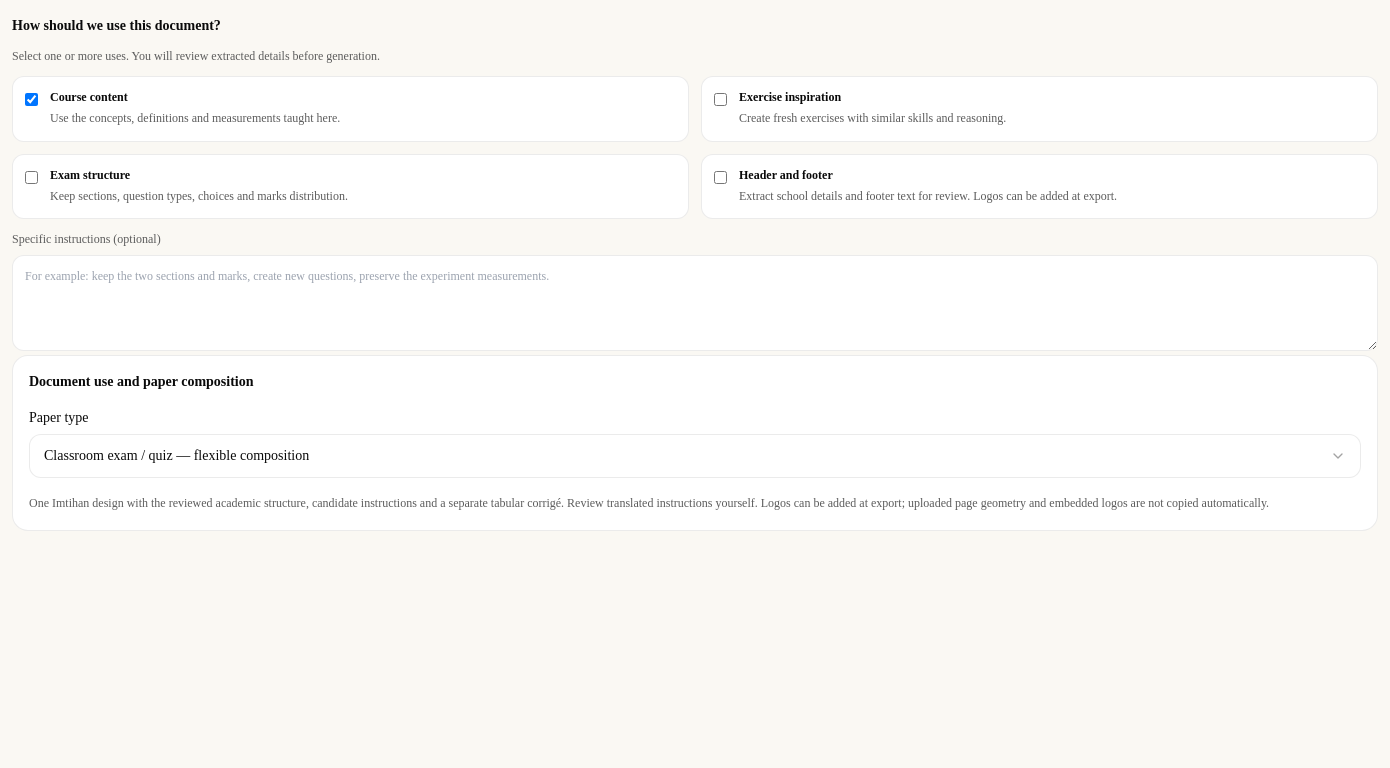
it: lets teachers combine purposes and warns when none remain
Click the 3rd checkbox at (32, 177), box [25, 170, 38, 184]
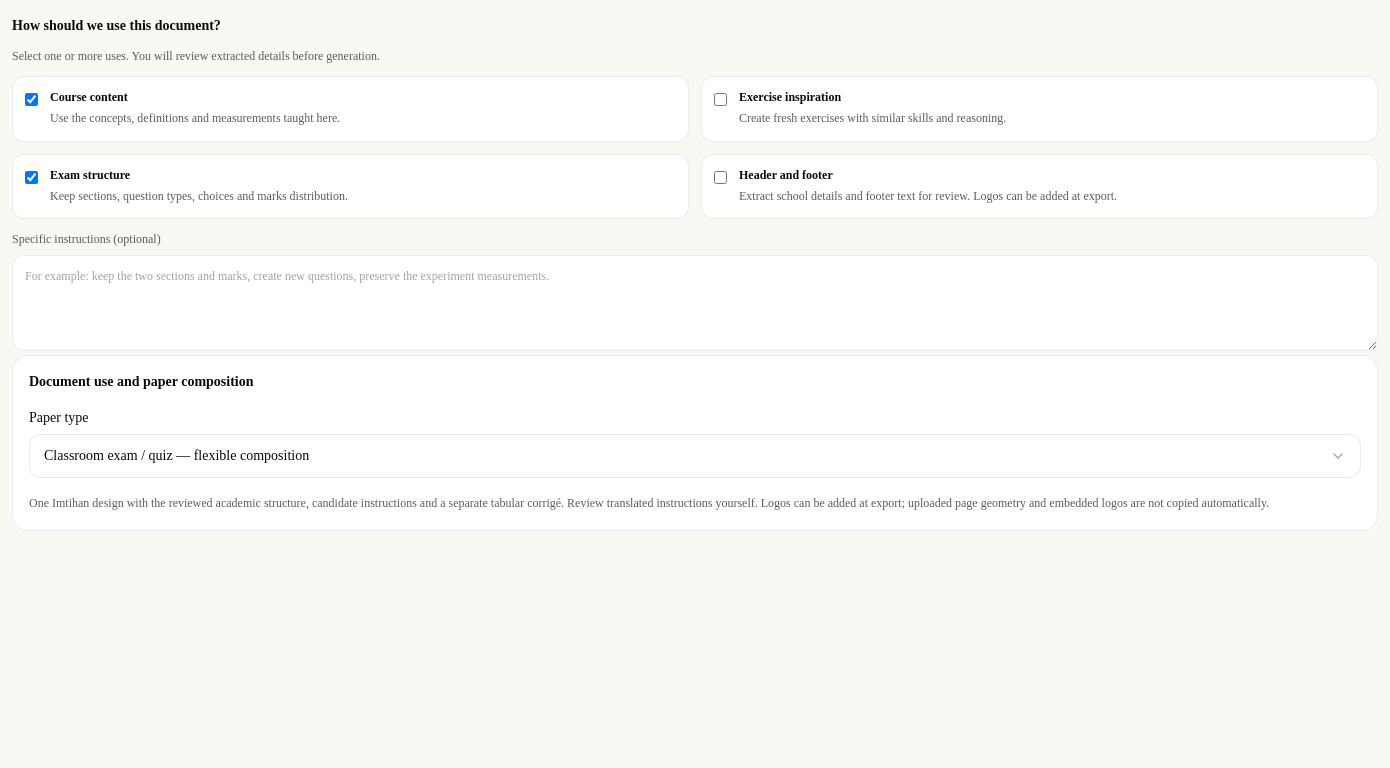
Click the 1st checkbox at (32, 100), box [25, 93, 38, 106]
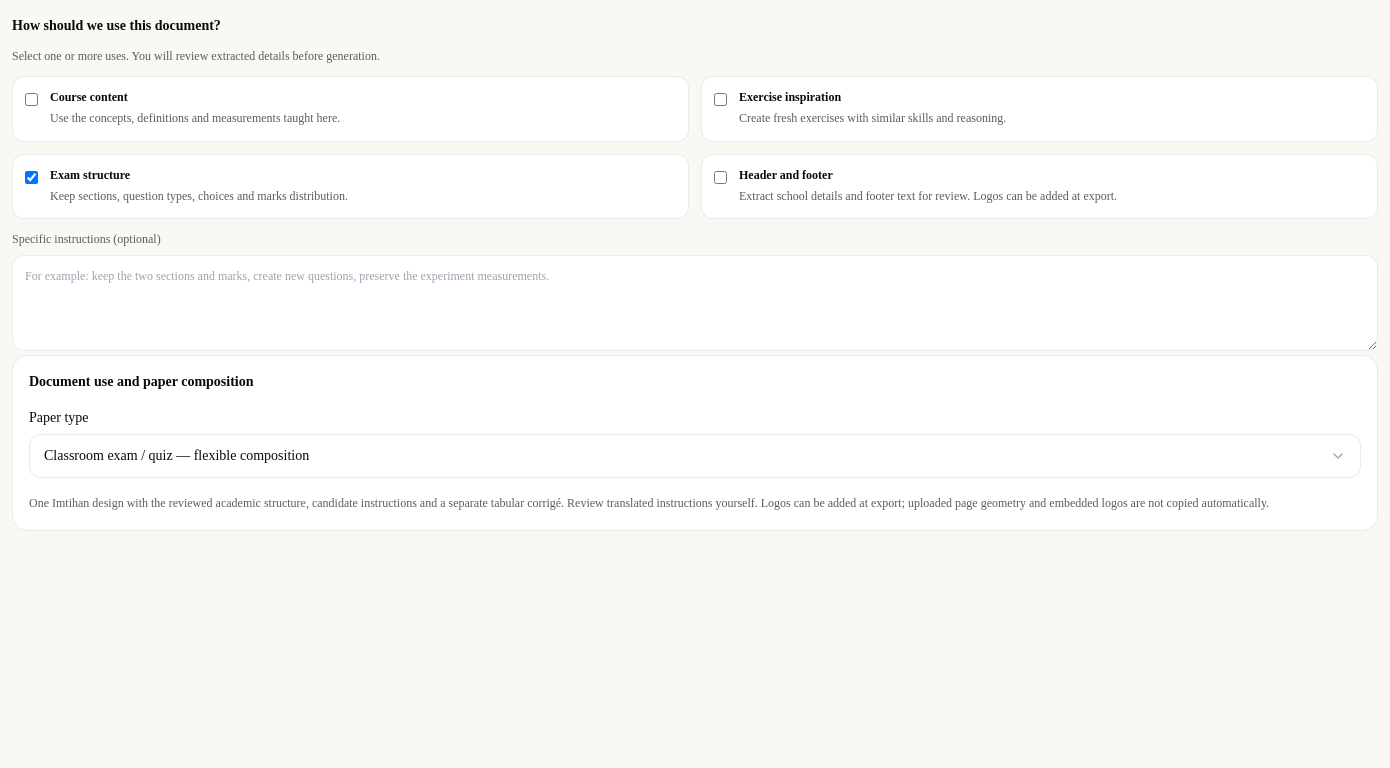
Click the 3rd checkbox at (32, 177), box [25, 170, 38, 184]
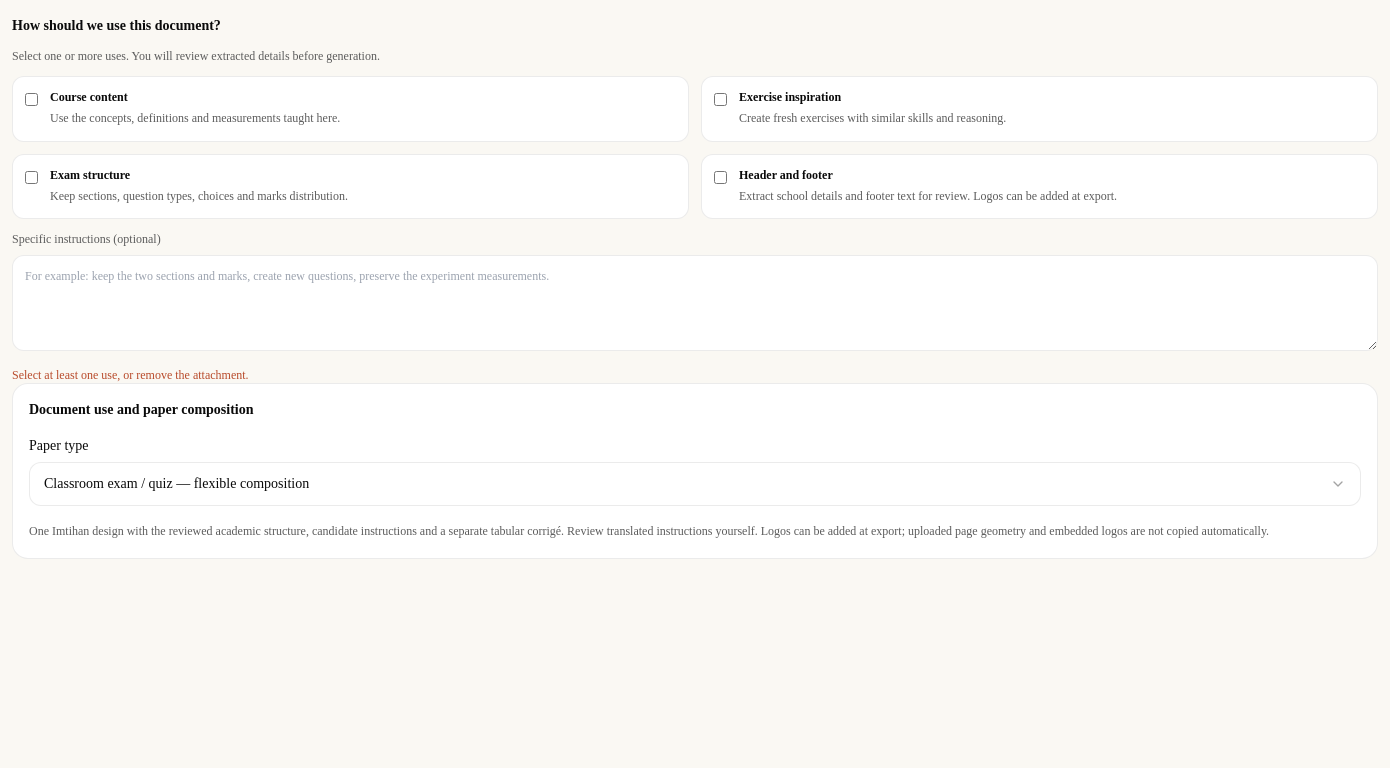
Expected: the message "Select at least one use, or remove the attachment." is shown, [12, 368, 249, 382]
